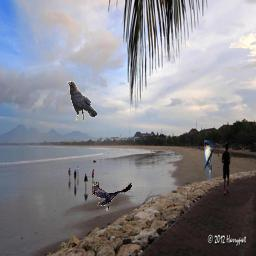Crow: (67, 81, 97, 121), (92, 181, 132, 211)
Swallow: (204, 140, 213, 180)
